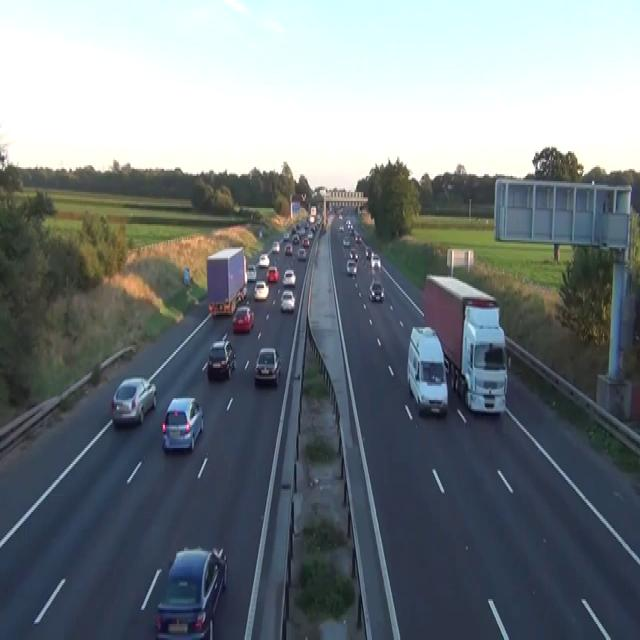Car: (155, 544, 227, 638), (161, 396, 203, 452), (110, 377, 157, 425), (207, 338, 236, 380), (254, 346, 281, 386), (232, 304, 254, 332), (222, 332, 236, 370), (253, 279, 269, 301), (369, 279, 384, 301), (280, 290, 295, 311), (266, 265, 279, 283), (282, 268, 296, 284), (346, 258, 357, 276), (246, 263, 256, 281), (370, 250, 380, 268), (236, 284, 247, 300), (258, 252, 269, 266), (349, 247, 358, 261), (297, 247, 306, 260), (365, 245, 372, 258), (272, 240, 279, 252), (284, 244, 292, 254), (292, 233, 300, 243), (342, 235, 349, 245), (300, 192, 306, 203), (242, 284, 247, 297), (302, 238, 309, 247), (345, 218, 351, 228), (306, 230, 313, 238), (355, 233, 361, 242), (283, 231, 289, 240), (338, 224, 344, 233), (309, 214, 315, 222), (321, 224, 326, 233), (309, 226, 315, 233), (258, 228, 262, 238), (291, 226, 296, 233), (304, 220, 308, 228), (338, 212, 343, 218)
Truck: (423, 274, 508, 414), (406, 324, 448, 416), (206, 246, 247, 316), (309, 205, 316, 222)
